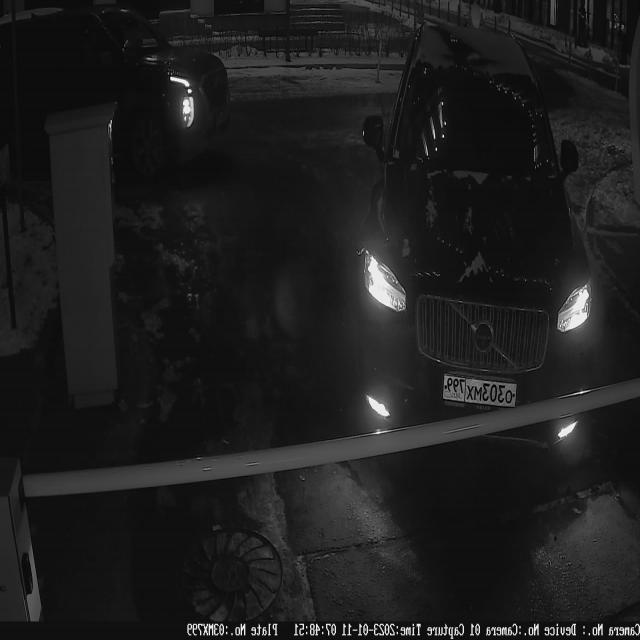car-plate-numbers: (432, 375, 522, 418)
